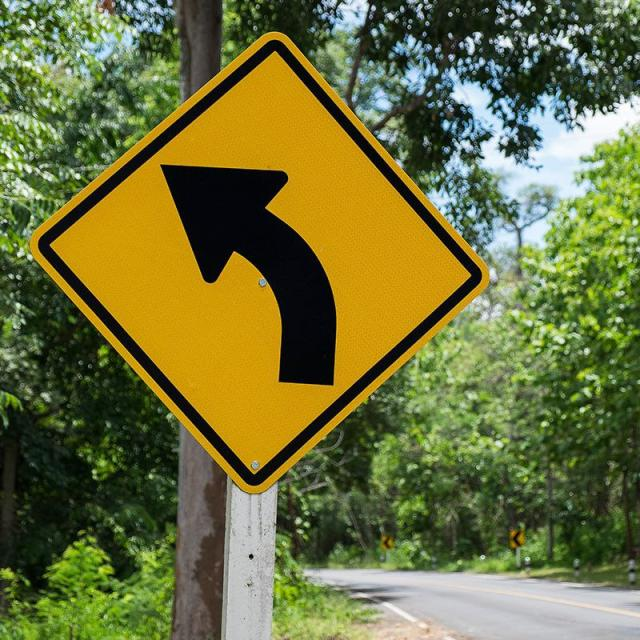left_hand_curve: (35, 32, 484, 486)
